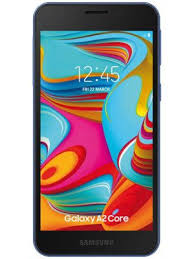samsung: (28, 1, 161, 259)
